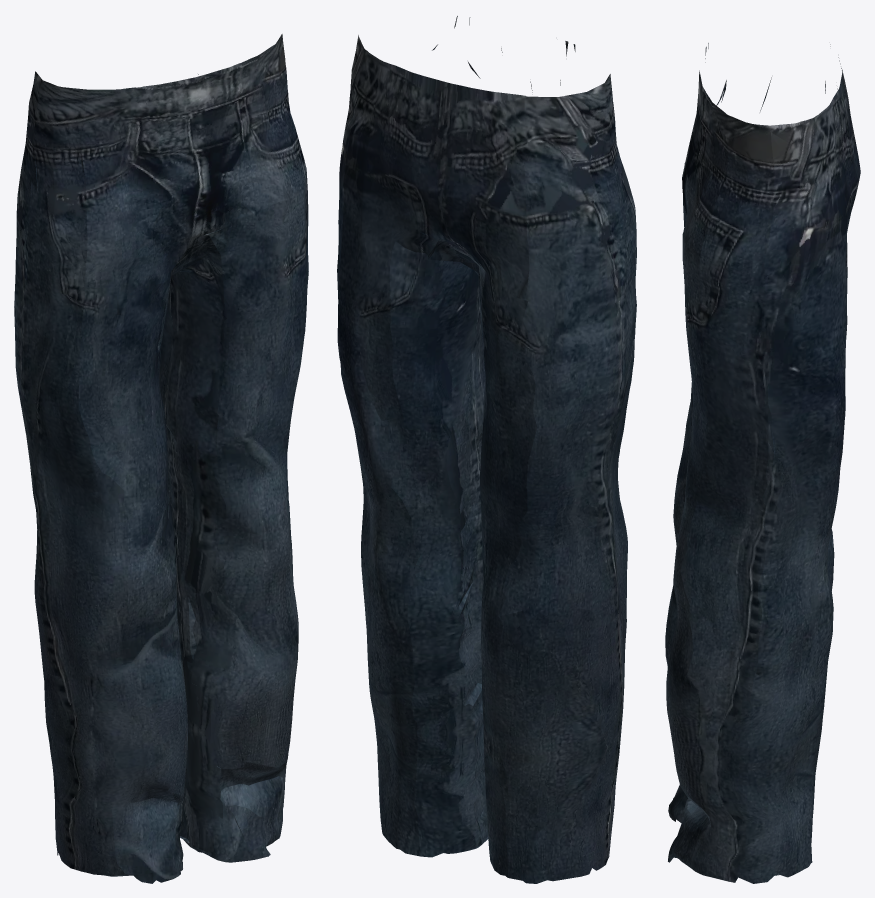
The picture shows the model from 3 angles, left to right: view 1: azimuth 30°, elevation 25°; view 2: azimuth 150°, elevation 25°; view 3: azimuth 270°, elevation 25°; orthographic projection. The views are drawn at different scales.
Bounding box in the file's own units: 0.3389 × 0.9289 × 0.2146.
1 material, 1 textured.
